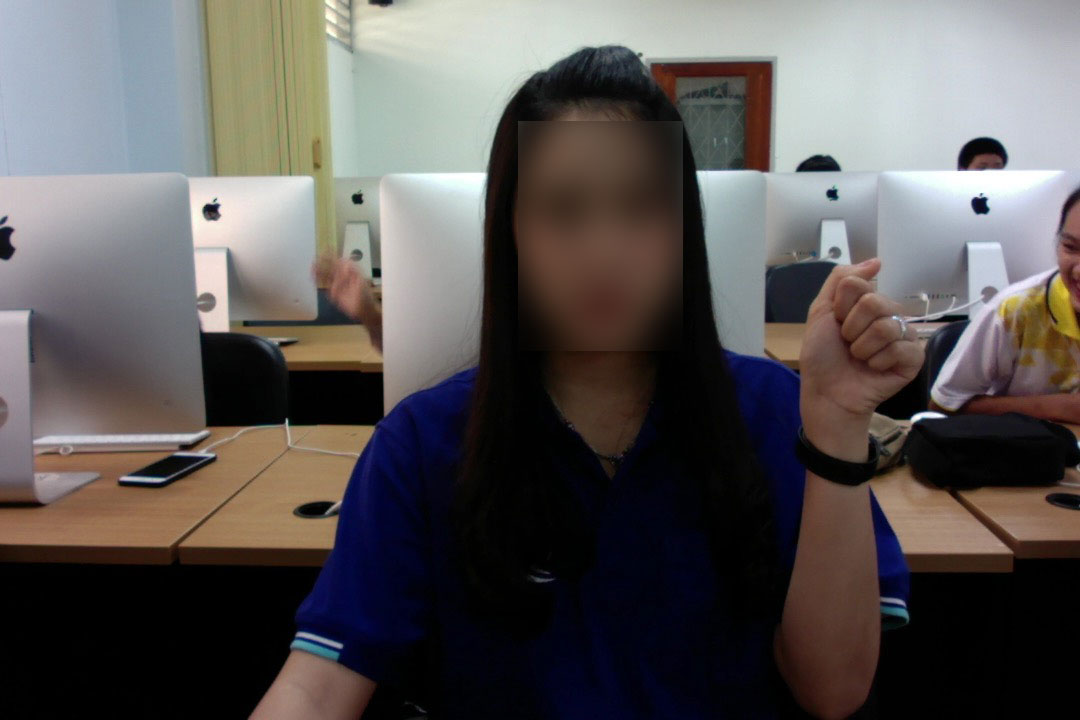or: (790, 241, 933, 449)
